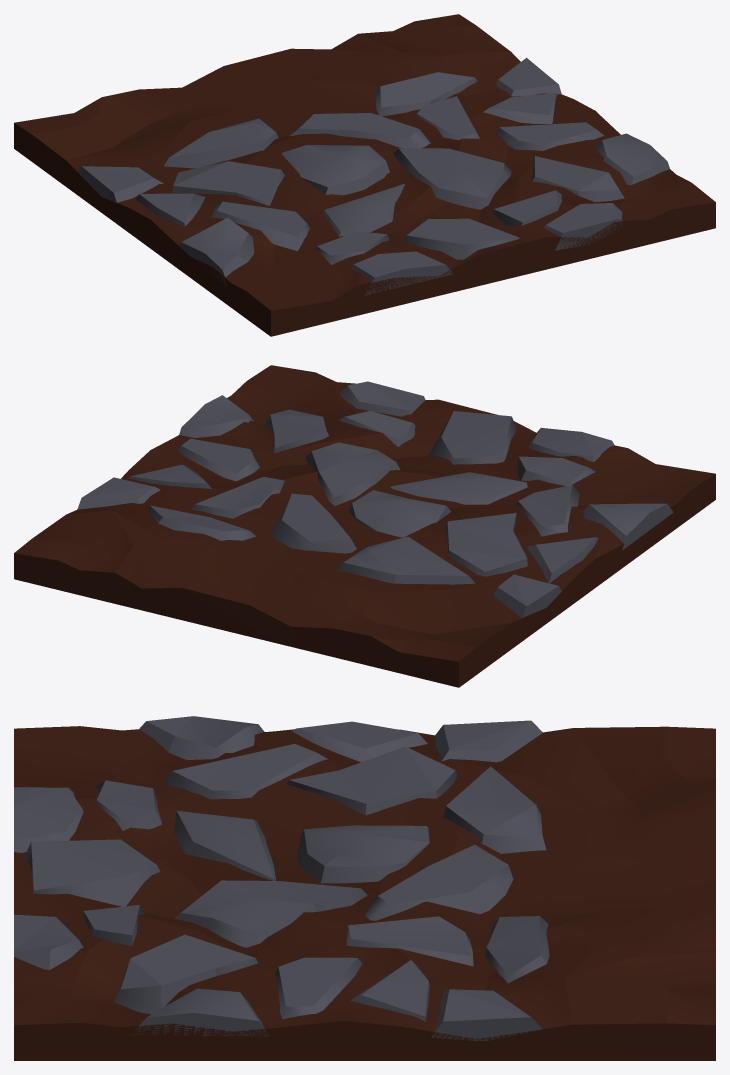
File: Ground_Stone_Path_Crossroads_B.fbx
The picture shows the model from 3 angles, top to bottom: view 1: azimuth 30°, elevation 25°; view 2: azimuth 150°, elevation 25°; view 3: azimuth 270°, elevation 25°; orthographic projection. The views are drawn at different scales.
Parts seen in each view (by area): view 1: Ground_Stone_Path_Crossroads_B; view 2: Ground_Stone_Path_Crossroads_B; view 3: Ground_Stone_Path_Crossroads_B.
Boxes of the visible parts, x1,y1,x2,y2 form: Ground_Stone_Path_Crossroads_B: (14,14,715,336); Ground_Stone_Path_Crossroads_B: (14,365,715,687); Ground_Stone_Path_Crossroads_B: (14,716,715,1060).
Size of the model in its own units: 147 by 14.83 by 147.
